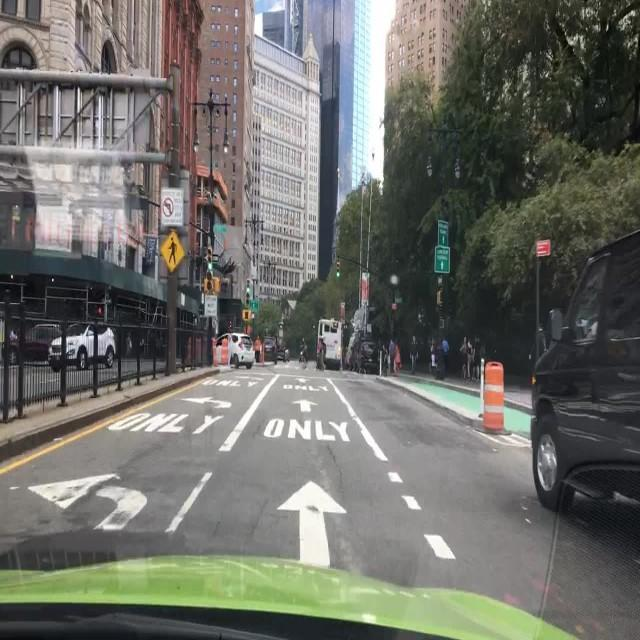normal: (532, 236, 639, 517), (46, 324, 116, 373), (0, 323, 60, 368), (211, 332, 255, 368), (317, 319, 344, 372)
